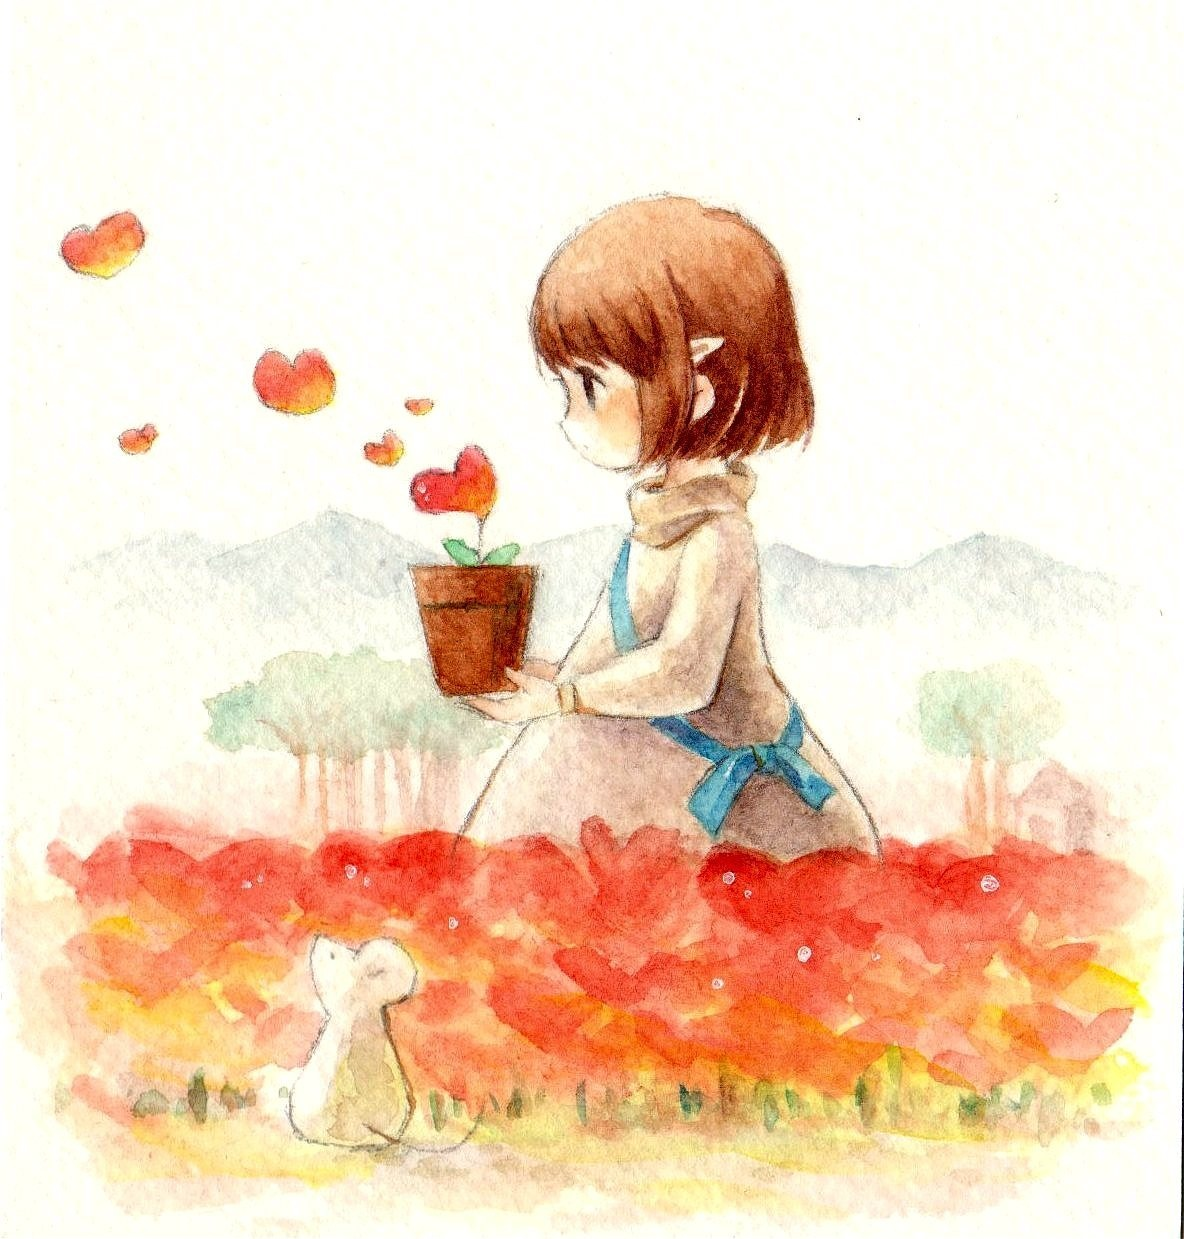纸片人正脸: (530, 201, 795, 475)
